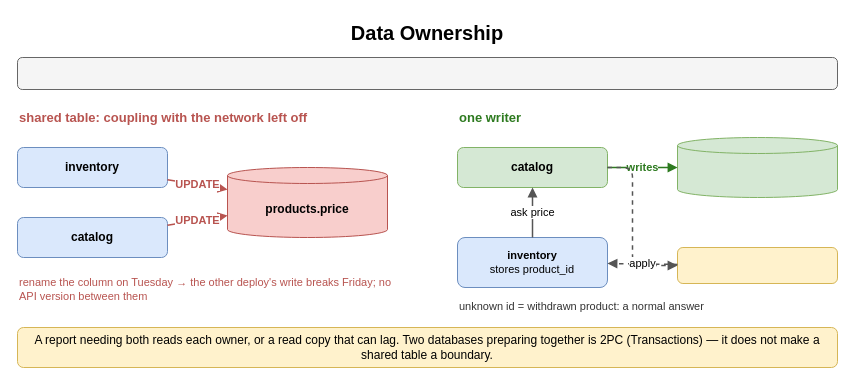
Some shapes in this 855 by 385 pixel diagram are drawn without their labels. The centre of each missing label's shape, as x and y in pixels:
products owner: catalog: pixel 757 167
published fact: pixel 757 265
The service that decides a fact is the only service that writes its row: pixel 427 73
